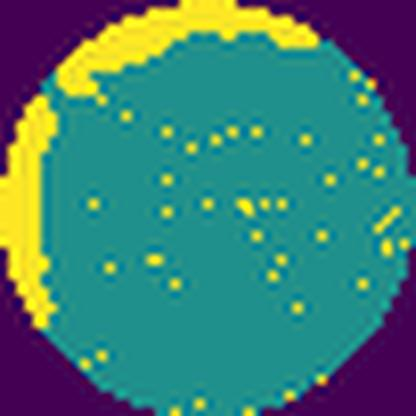Edge-Loc: (52, 0, 321, 98), (0, 94, 59, 327)
